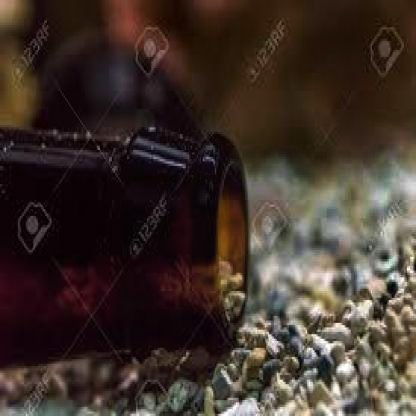gbottle: (1, 134, 250, 371)
